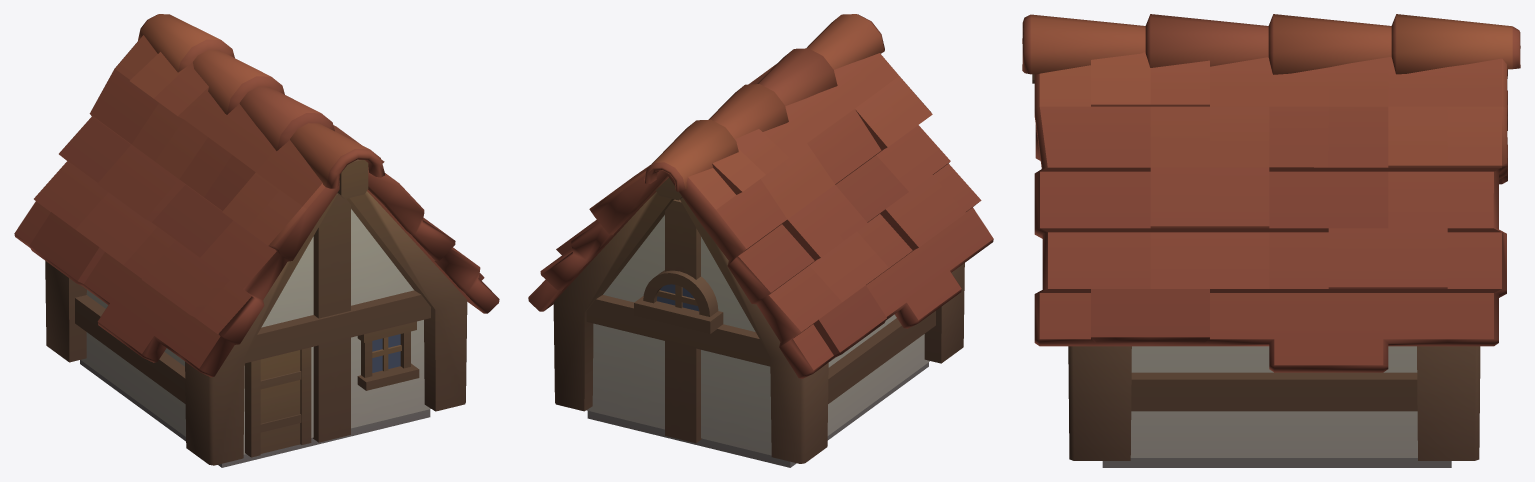
Rendered from house3_bevelParts.fbx.
The picture shows the model from 3 angles, left to right: view 1: azimuth 30°, elevation 25°; view 2: azimuth 150°, elevation 25°; view 3: azimuth 270°, elevation 25°; orthographic projection. The views are drawn at different scales.
Visible parts, largest first — view 1: house3_edge, house3_noEdge; view 2: house3_edge, house3_noEdge; view 3: house3_edge, house3_noEdge.
Part boxes in pixels (box(x1,y1,x2,y2)): house3_edge: box(14, 14, 499, 465); house3_noEdge: box(75, 159, 430, 467); house3_edge: box(528, 14, 993, 463); house3_noEdge: box(586, 178, 935, 467); house3_edge: box(1022, 14, 1520, 460); house3_noEdge: box(1032, 74, 1451, 467).
Size of the model in its own units: 376 by 353 by 411.
